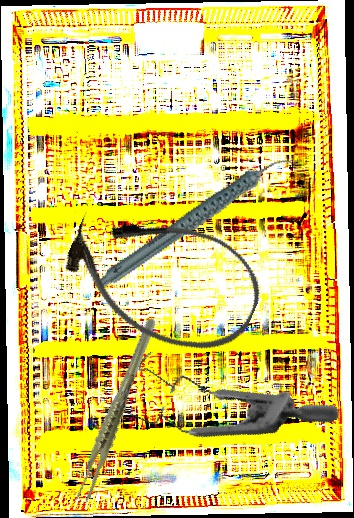Cannula: (50, 185, 276, 371)
Handpiece: (78, 154, 311, 292)
Speculum: (102, 292, 342, 499)
Tissue Forceps: (45, 316, 189, 506)
